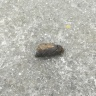Dog: (35, 43, 64, 58)
